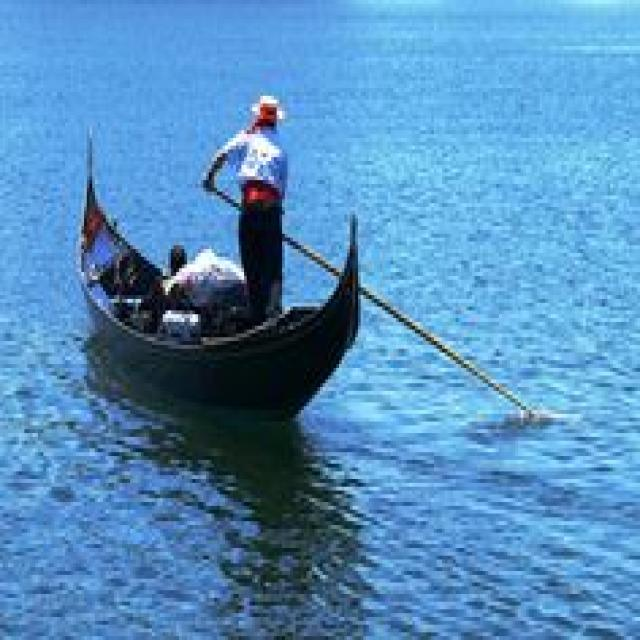boat: (72, 110, 366, 462)
